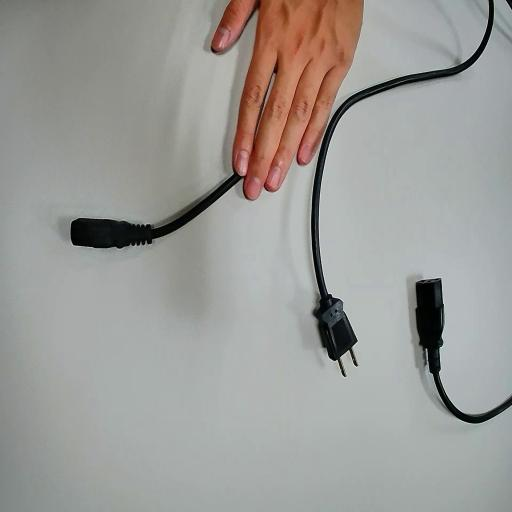wire: (312, 0, 492, 359), (71, 167, 246, 247), (416, 280, 511, 422)
